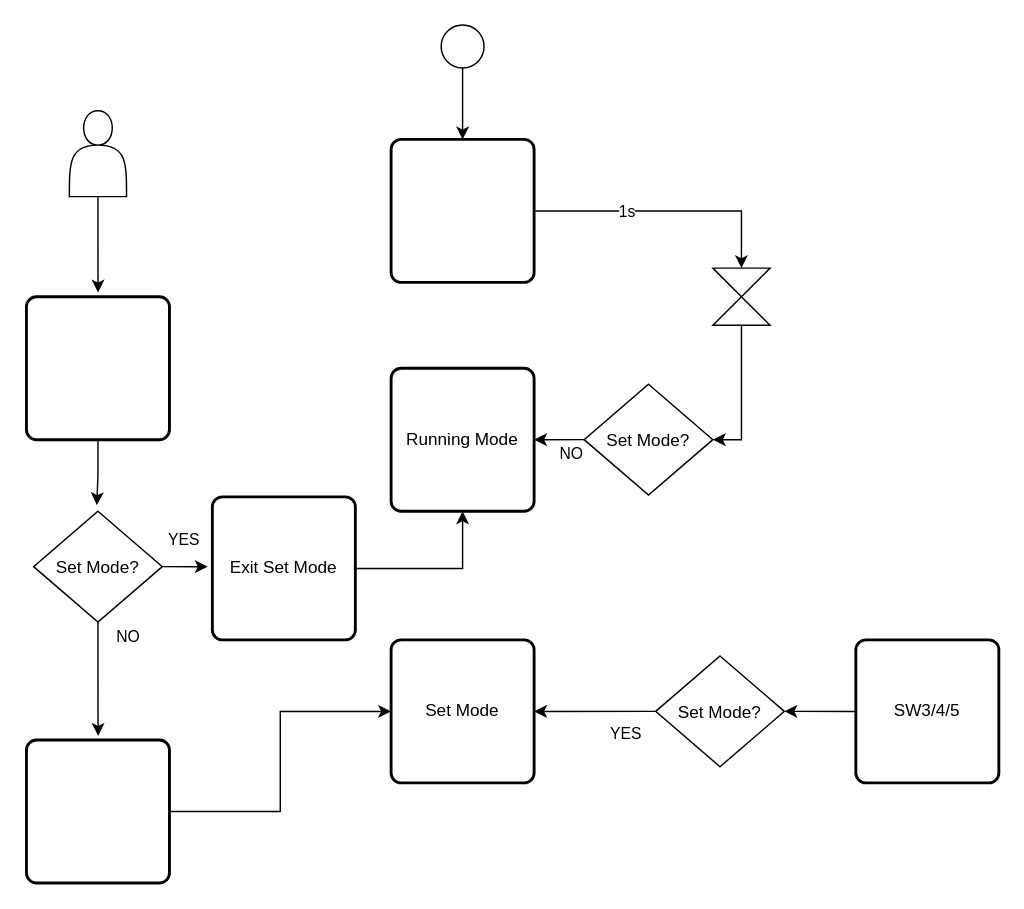
This 1024x909 diagram has some shape labels left out. The centre of each missing label's shape, as x and y in pixels:
Button SW2 Down+Up Short(100ms): the point at 97,367
Enter Set Mode: the point at 97,811
Setup: the point at 462,210
